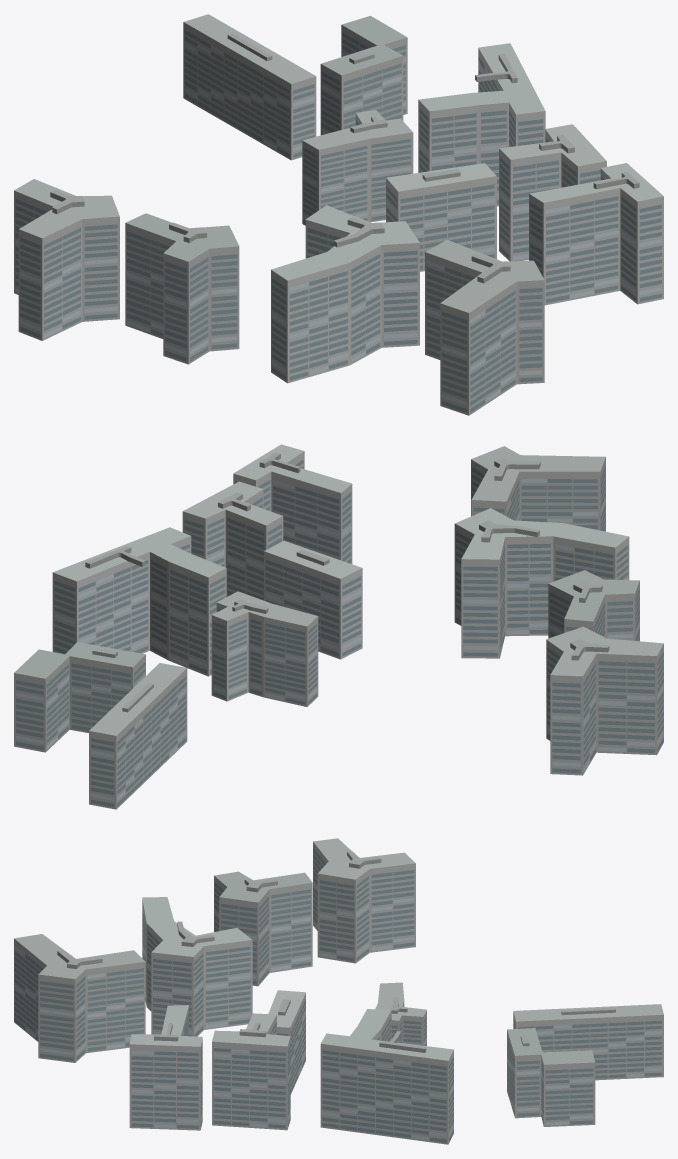
The model's file is apt-a12275201.glb.
3 renders of one model, top to bottom at view 1: azimuth 30°, elevation 25°; view 2: azimuth 150°, elevation 25°; view 3: azimuth 270°, elevation 25°, orthographic. The views are drawn at different scales.
Parts seen in each view (by area): view 1: apt-a12275201; view 2: apt-a12275201; view 3: apt-a12275201.
Part boxes in pixels (left/top/right/bottom): apt-a12275201: left=14, top=14, right=663, bottom=415; apt-a12275201: left=14, top=444, right=663, bottom=809; apt-a12275201: left=14, top=838, right=663, bottom=1144.
Bounding box in the file's own units: 234 × 43 × 289.
